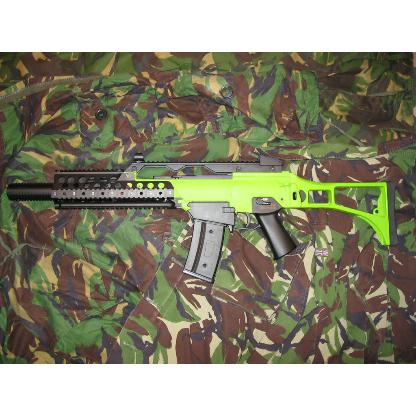gun: (20, 151, 384, 307)
